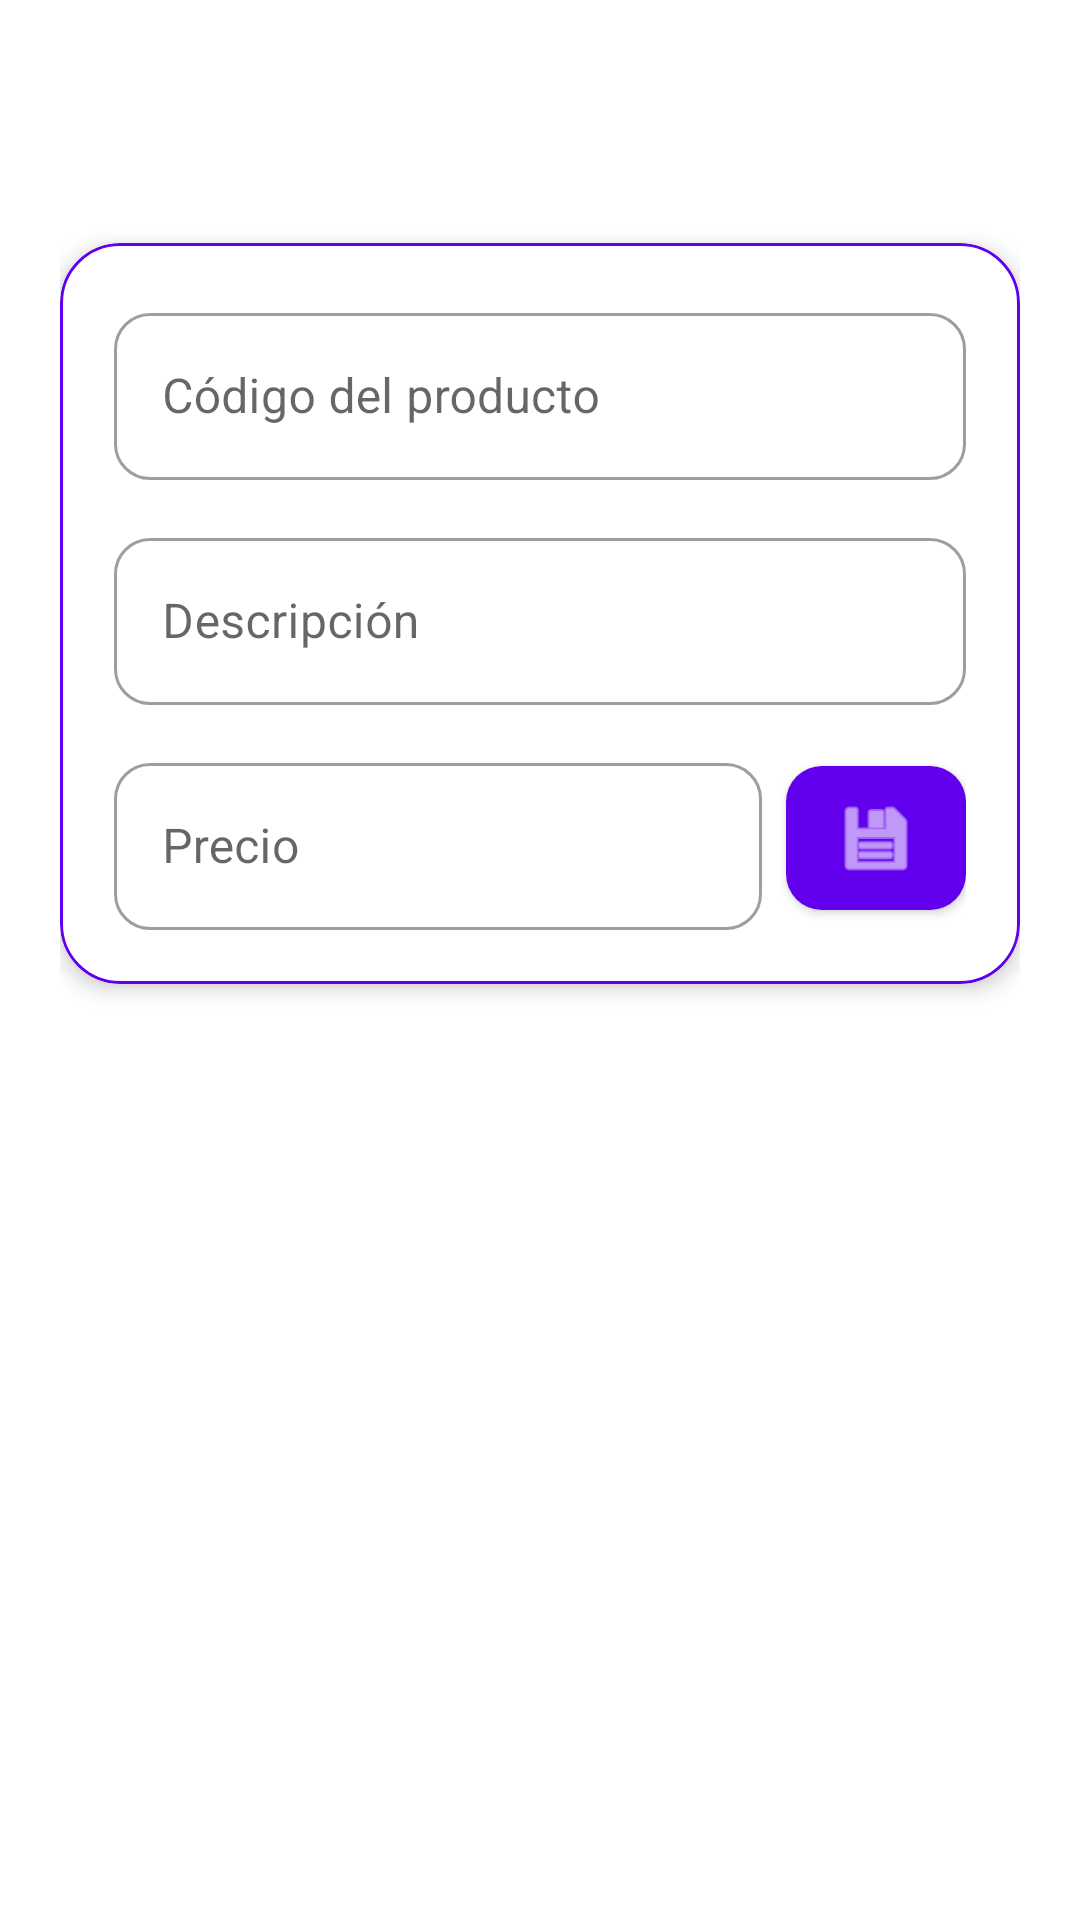

Named icons in this screenshot (1080px x 1920px) and their centers, [x,y]:
save: [876,839]
